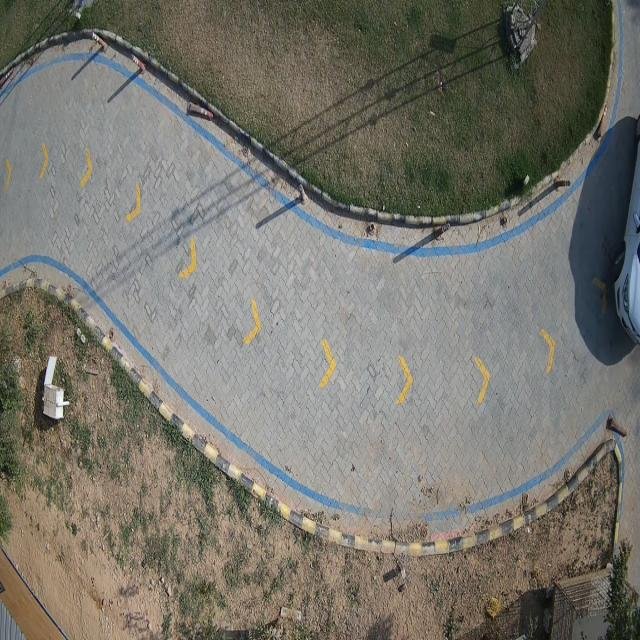car: (612, 140, 640, 346)
